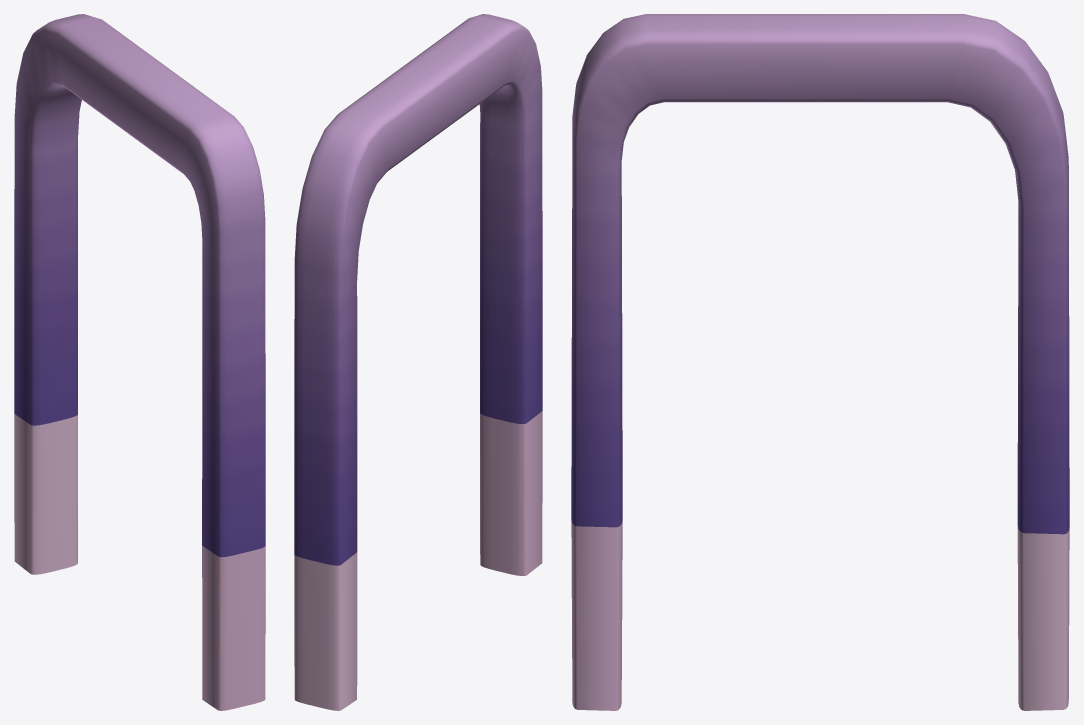
File: kap.fbx
3 views of the same model, side by side, from view 1: azimuth 30°, elevation 25°; view 2: azimuth 150°, elevation 25°; view 3: azimuth 270°, elevation 25° (orthographic). The views are drawn at different scales.
Visible parts, largest first — view 1: Cube; view 2: Cube; view 3: Cube.
Boxes of the visible parts, <box> form: Cube: <box>14,14,265,710</box>; Cube: <box>294,14,542,710</box>; Cube: <box>571,14,1069,710</box>.
Bounding box in the file's own units: 21.08 × 243 × 163.
Materials: 1 (1 with a texture image).
